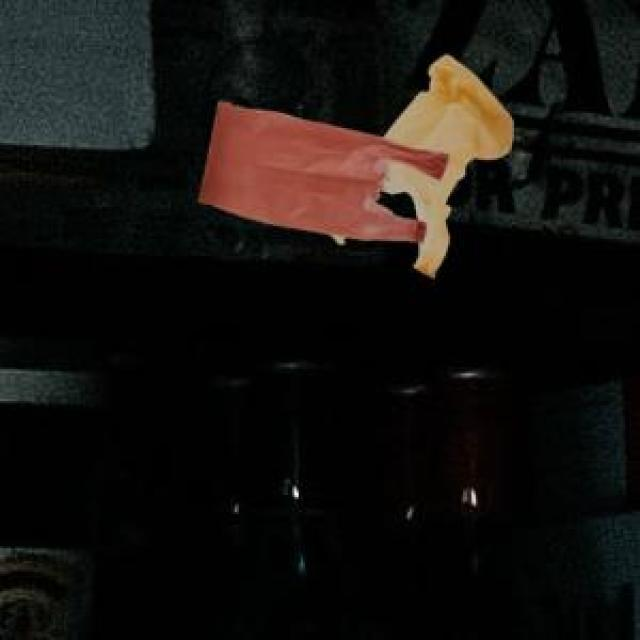waste: (202, 55, 514, 277)
